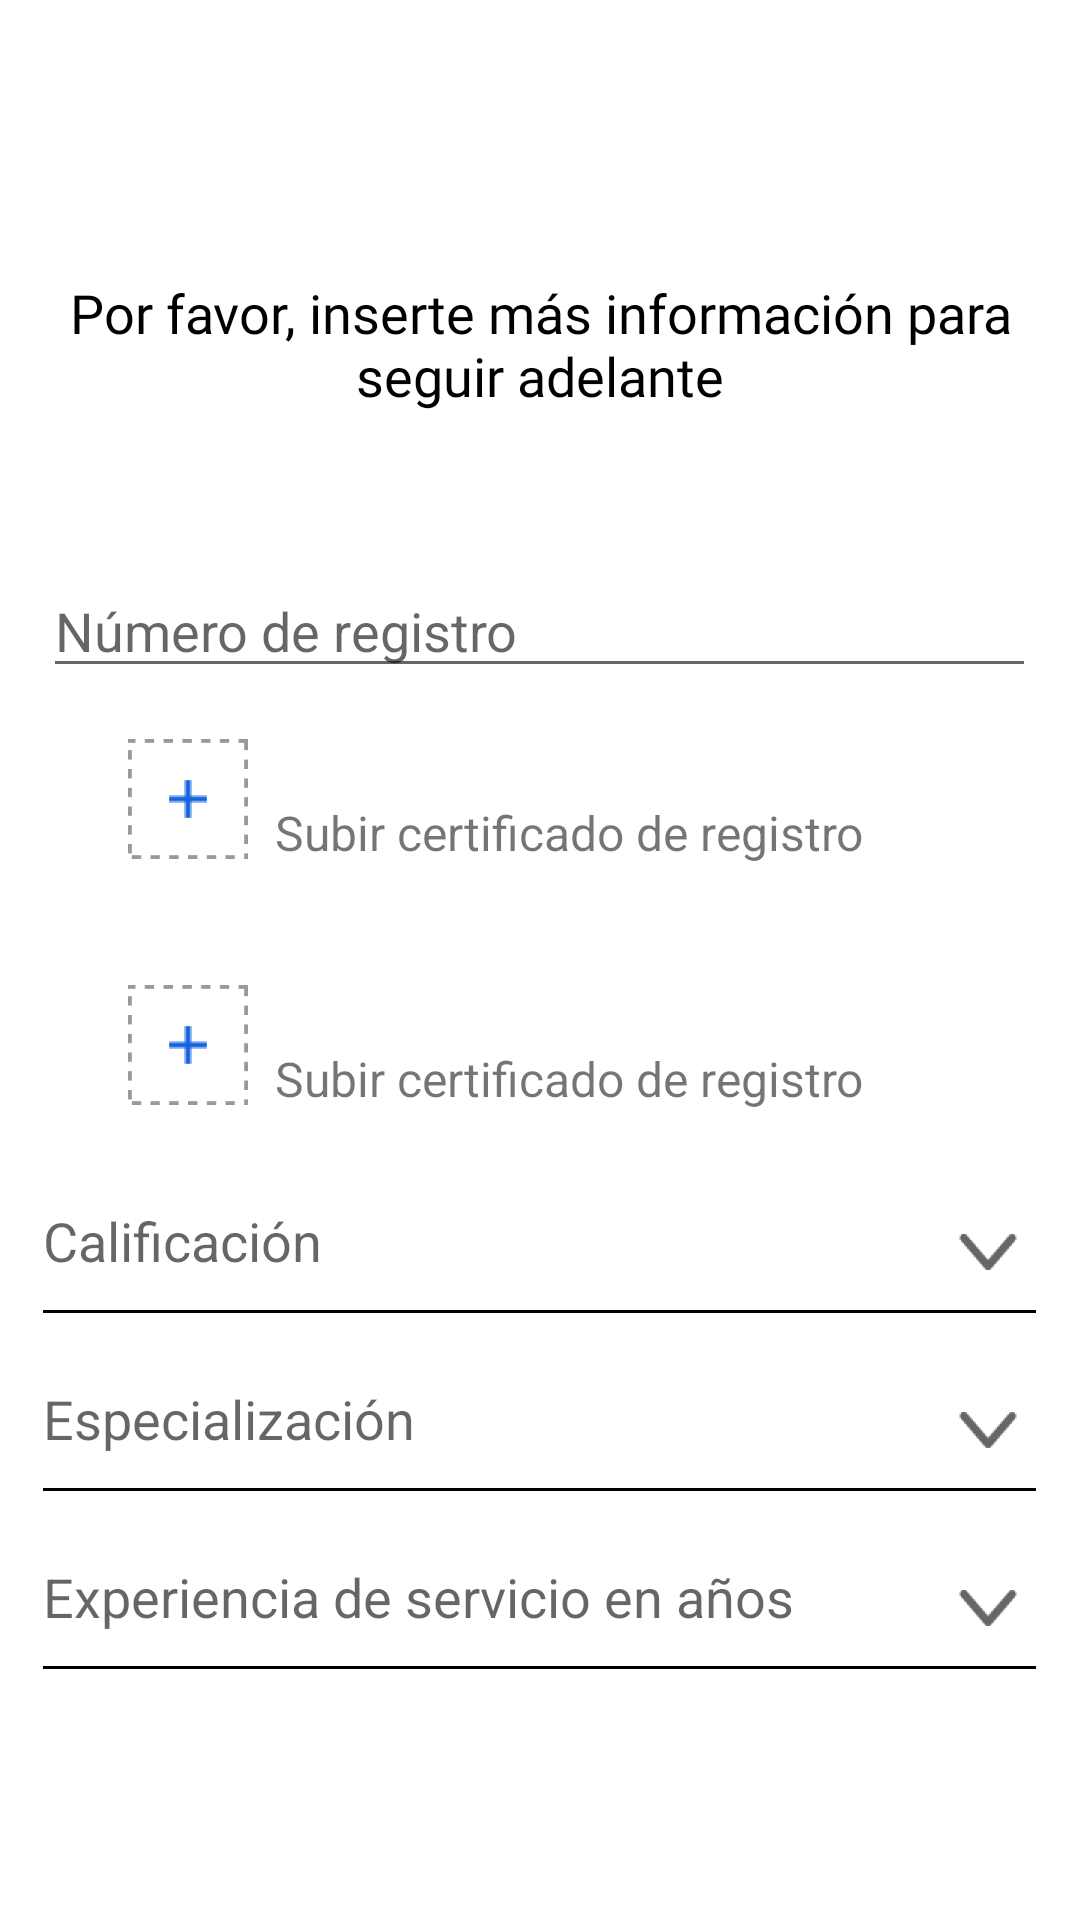

Screen size 1080x1920. Icon name, then its center in pixels as point (x, y):
addimage: point (188, 799), point (188, 1045)
